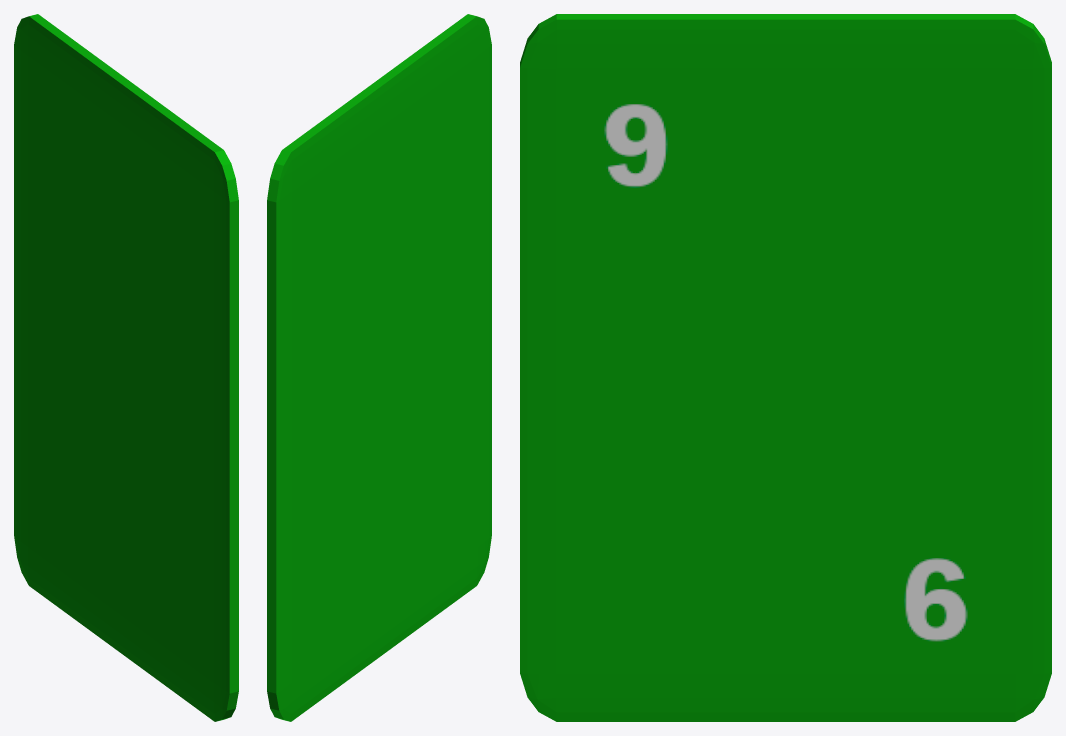
The model's file is 9verde.glb.
The picture shows the model from 3 angles, left to right: view 1: azimuth 30°, elevation 25°; view 2: azimuth 150°, elevation 25°; view 3: azimuth 270°, elevation 25°; orthographic projection. The views are drawn at different scales.
Parts seen in each view (by area): view 1: Cube; view 2: Cube; view 3: Cube.
Part boxes in pixels (x1,y1,x2,y2): Cube: [14, 14, 238, 721]; Cube: [267, 14, 491, 721]; Cube: [520, 14, 1051, 721].
Size of the model in its own units: 0.04 by 2.04 by 1.4.
1 material, 1 textured.
